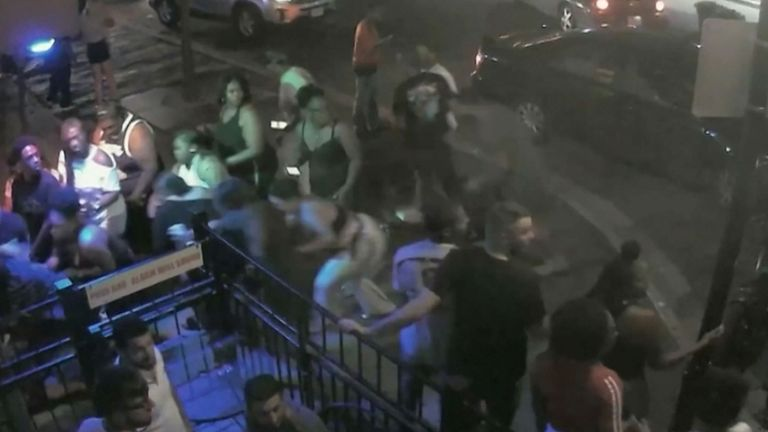person: (478, 198, 535, 428), (538, 299, 630, 430), (386, 49, 460, 182), (277, 85, 367, 191), (399, 197, 472, 322), (196, 66, 276, 171), (88, 91, 162, 199), (268, 181, 367, 259), (58, 113, 125, 200), (159, 120, 238, 190), (41, 199, 125, 264), (79, 366, 162, 430), (103, 312, 177, 381), (350, 5, 389, 134), (597, 250, 667, 319), (8, 135, 54, 216), (240, 376, 292, 426), (258, 50, 315, 86), (401, 41, 463, 67)
